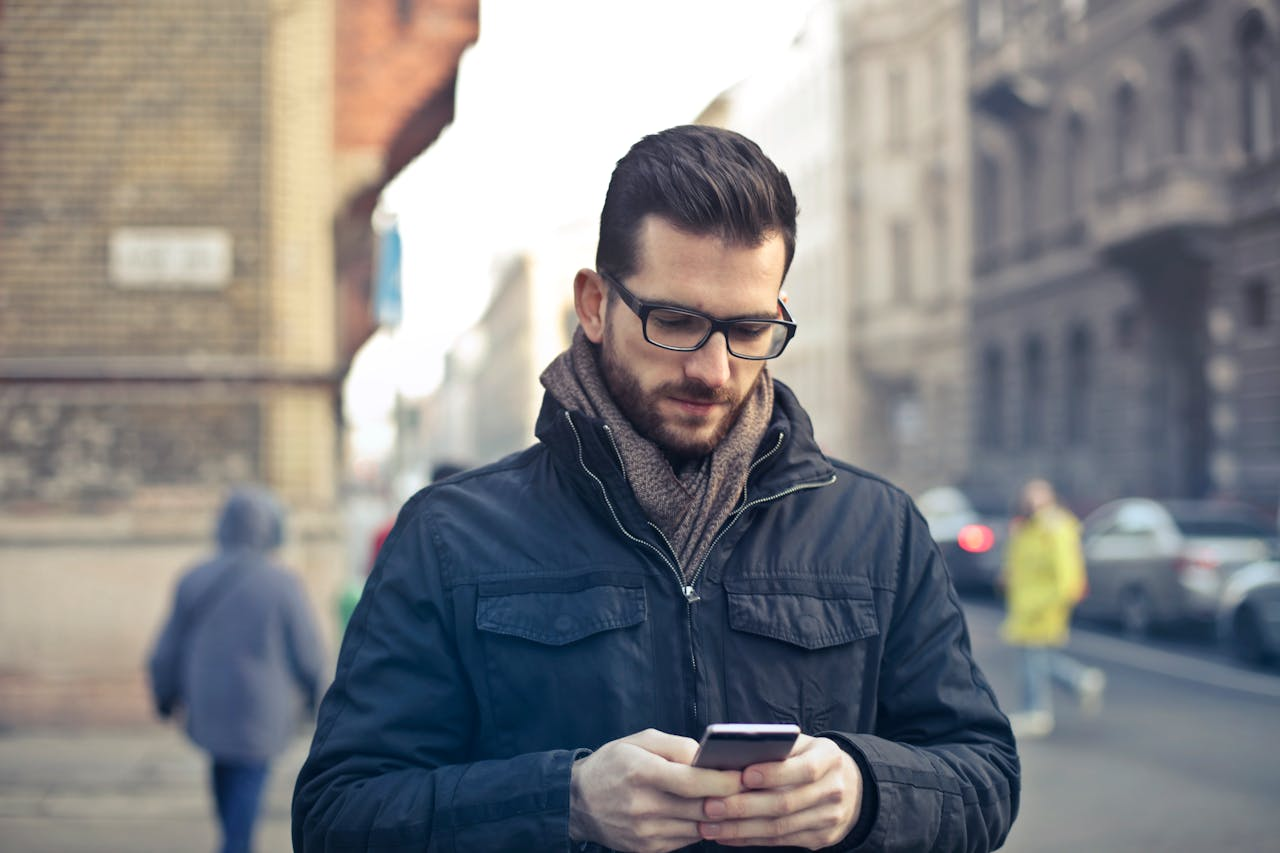person: (277, 82, 1041, 848)
